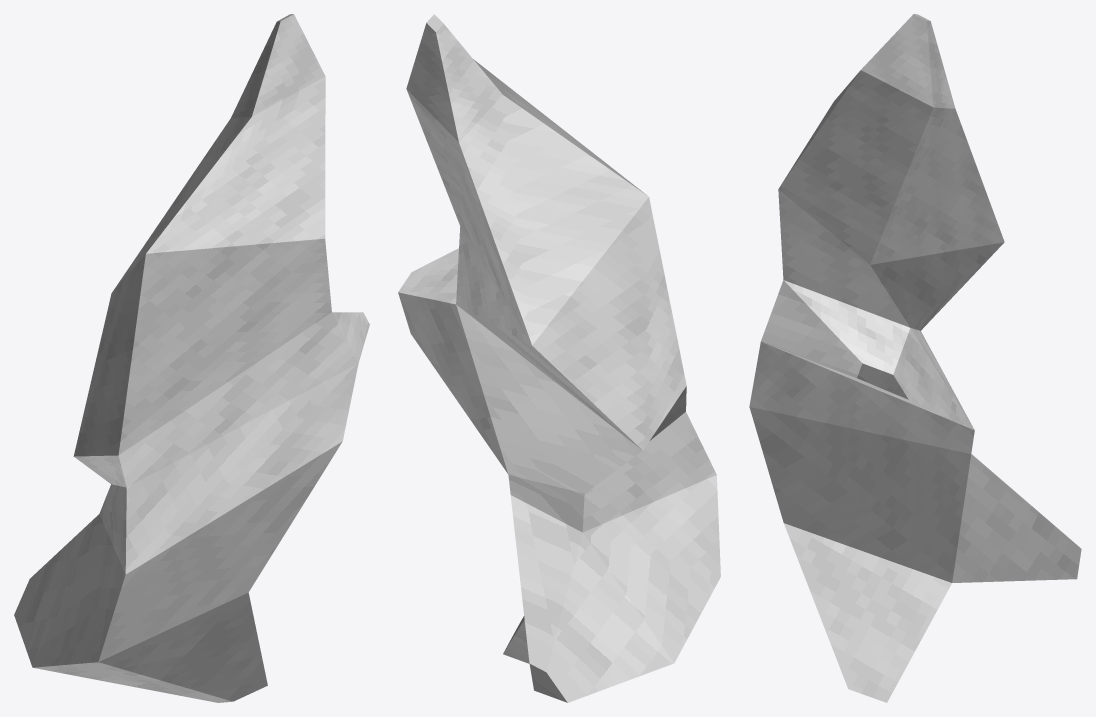
Rendered from obstacle.fbx.
3 renders of one model, left to right at view 1: azimuth 30°, elevation 25°; view 2: azimuth 150°, elevation 25°; view 3: azimuth 270°, elevation 25°, orthographic. The views are drawn at different scales.
Visible parts, largest first — view 1: obstacle; view 2: obstacle; view 3: obstacle.
Boxes of the visible parts, x1,y1,x2,y2 form: obstacle: (14, 14, 369, 702); obstacle: (398, 14, 720, 702); obstacle: (749, 14, 1081, 702).
Size of what is drawn, in the model's own units: 182 by 375 by 155.
1 material, 1 textured.
